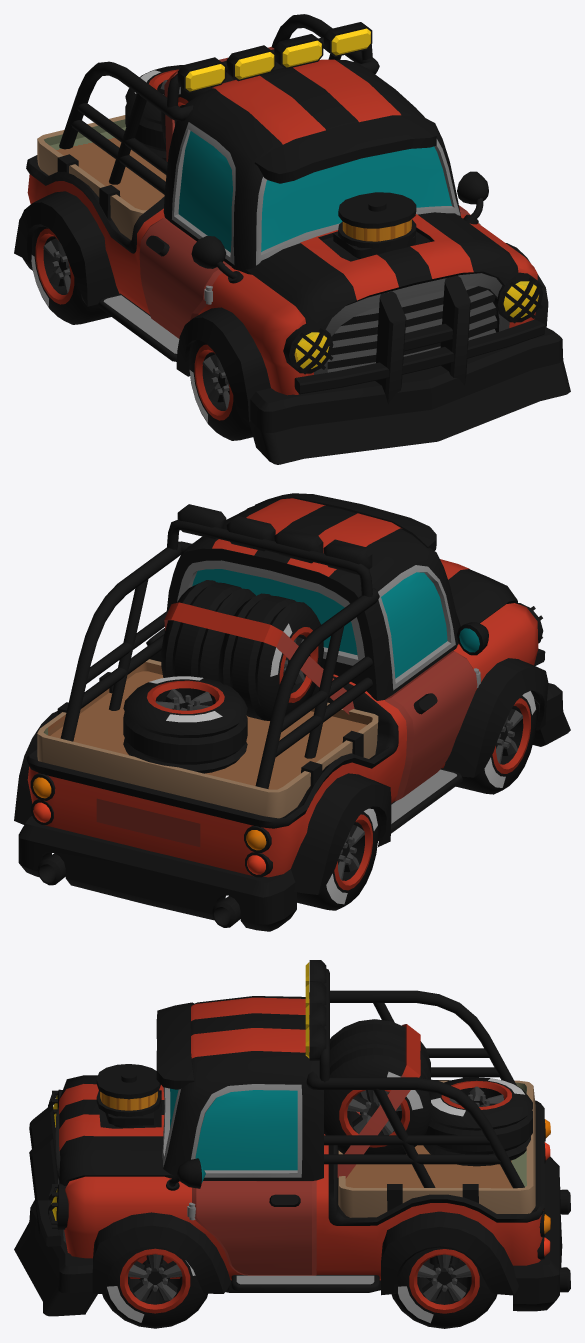
File: VEH19-C.fbx
3 views of the same model, one above another, from view 1: azimuth 30°, elevation 25°; view 2: azimuth 150°, elevation 25°; view 3: azimuth 270°, elevation 25° (orthographic). The views are drawn at different scales.
Visible parts, largest first — view 1: VEH19_C, V19C_Wheel_BR, V19C_Wheel_FR, V19C_BodyParts; view 2: VEH19_C, V19C_BodyParts, V19C_Wheel_BR, V19C_Wheel_FR; view 3: VEH19_C, V19C_Wheel_FL, V19C_Wheel_BL, V19C_BodyParts.
Part boxes in pixels (<box>): VEH19_C: <box>14,14,570,464</box>; V19C_Wheel_BR: <box>31,226,111,324</box>; V19C_Wheel_FR: <box>189,340,252,440</box>; V19C_BodyParts: <box>125,65,182,160</box>; VEH19_C: <box>14,493,570,931</box>; V19C_BodyParts: <box>123,676,247,773</box>; V19C_Wheel_BR: <box>297,808,378,910</box>; V19C_Wheel_FR: <box>456,690,536,794</box>; VEH19_C: <box>14,960,570,1316</box>; V19C_Wheel_FL: <box>102,1246,207,1328</box>; V19C_Wheel_BL: <box>391,1247,497,1328</box>; V19C_BodyParts: <box>423,1077,532,1166</box>.
Size of the model in its own units: 265 by 234 by 441.
Materials: 1 (1 with a texture image).
